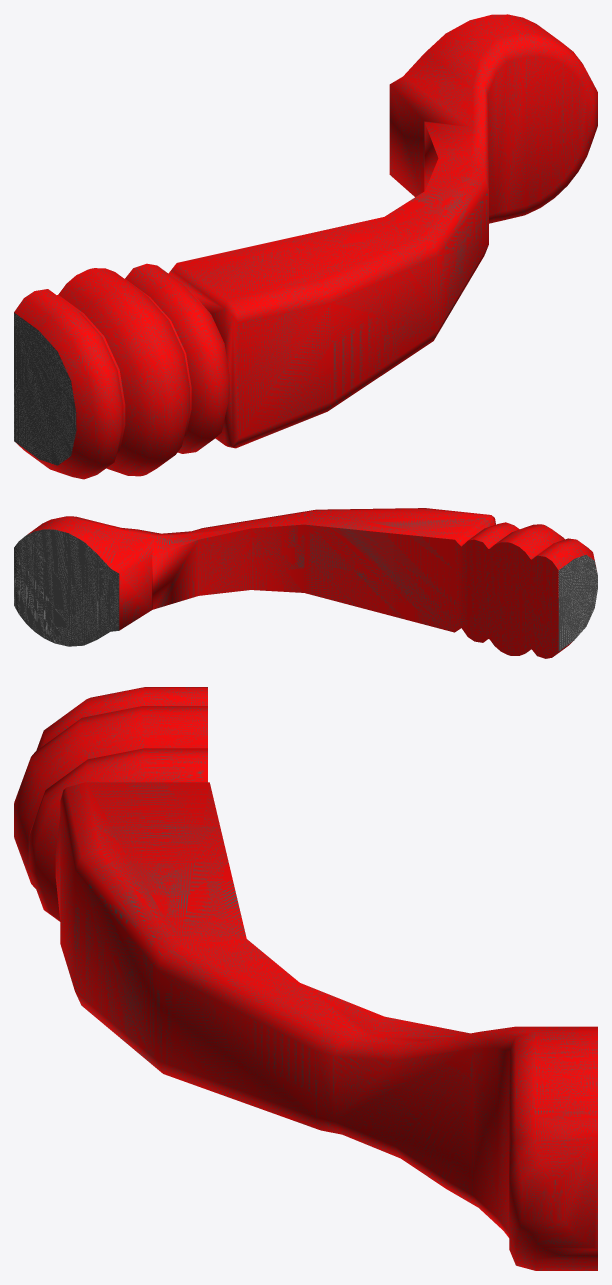
The model's file is original-54.obj.
3 views of the same model, one above another, from view 1: azimuth 30°, elevation 25°; view 2: azimuth 150°, elevation 25°; view 3: azimuth 270°, elevation 25° (orthographic). The views are drawn at different scales.
Visible parts, largest first — view 1: mesh23/mesh23-geometry#mesh23-geometry; view 2: mesh23/mesh23-geometry#mesh23-geometry; view 3: mesh23/mesh23-geometry#mesh23-geometry.
Boxes of the visible parts, <box> form: mesh23/mesh23-geometry#mesh23-geometry: <box>14,14,597,479</box>; mesh23/mesh23-geometry#mesh23-geometry: <box>14,508,597,658</box>; mesh23/mesh23-geometry#mesh23-geometry: <box>14,687,597,1270</box>.
Bounding box in the file's own units: 0.127 × 0.0306 × 0.0737.
